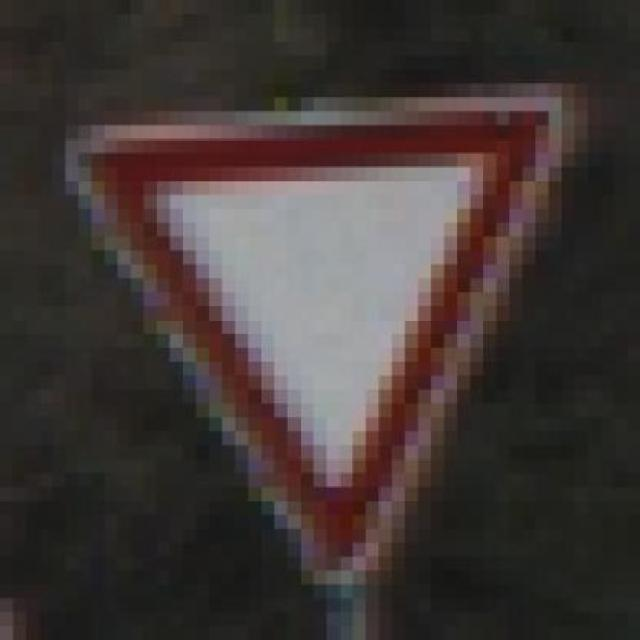Give Way: (39, 70, 588, 598)
